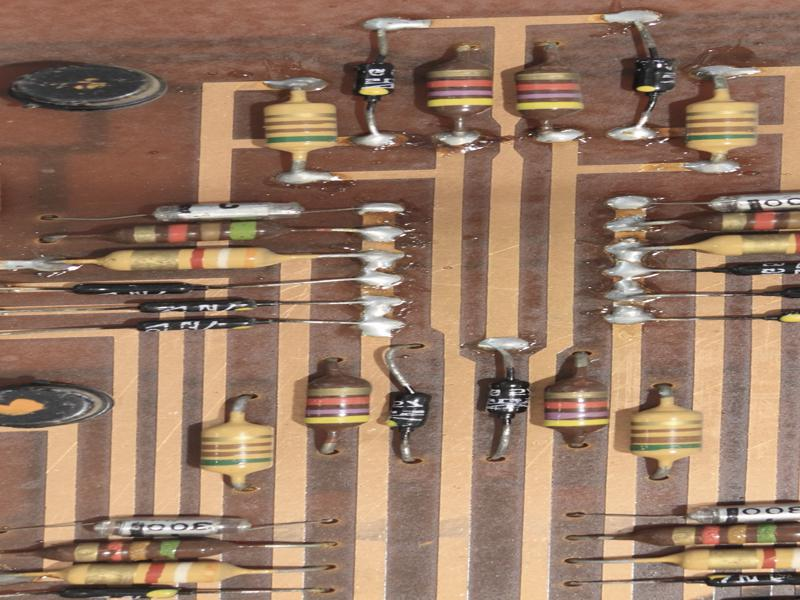Resistor: (24, 535, 260, 565), (23, 560, 268, 587), (80, 244, 300, 272), (625, 396, 706, 471), (261, 91, 342, 166), (198, 410, 277, 483), (80, 220, 316, 244), (423, 50, 494, 129), (511, 56, 588, 128), (605, 543, 800, 571), (542, 368, 614, 442), (683, 92, 762, 155), (305, 366, 374, 438), (608, 522, 800, 547), (680, 231, 800, 258), (683, 209, 800, 234)
